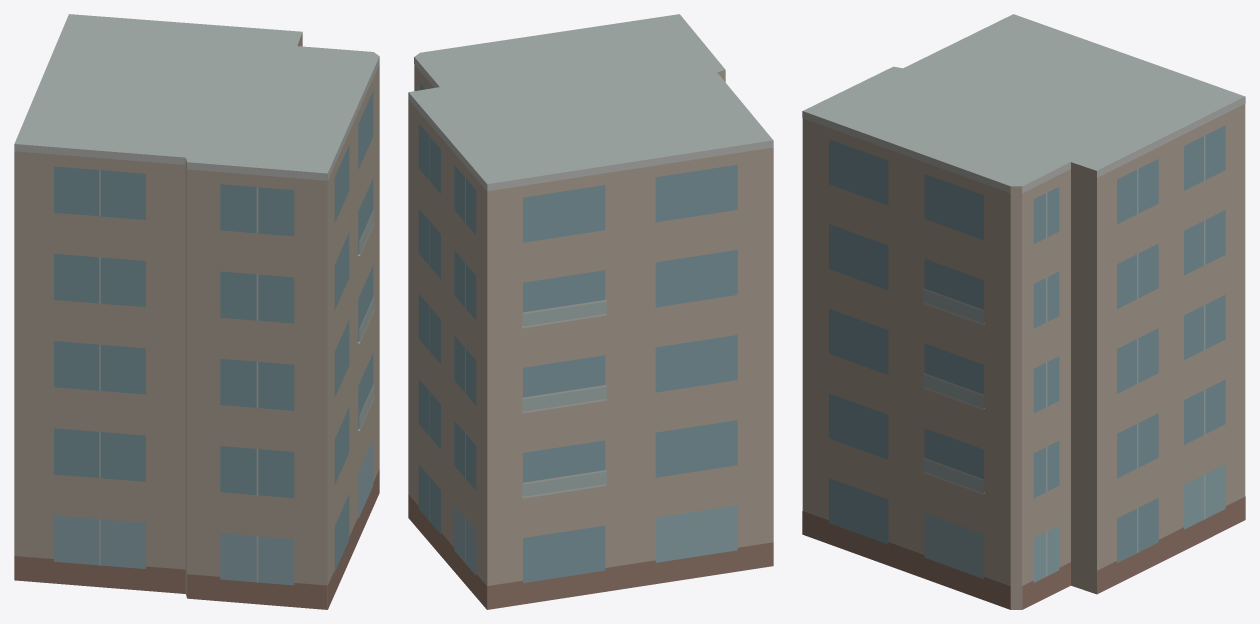
Rendered from survey-upis-32712329.glb.
3 renders of one model, left to right at view 1: azimuth 30°, elevation 25°; view 2: azimuth 150°, elevation 25°; view 3: azimuth 270°, elevation 25°, orthographic. The views are drawn at different scales.
Visible parts, largest first — view 1: survey-upis-32712329.tmp; view 2: survey-upis-32712329.tmp; view 3: survey-upis-32712329.tmp.
Boxes of the visible parts, x1=… form: survey-upis-32712329.tmp: x1=14, y1=14, x2=379, y2=609; survey-upis-32712329.tmp: x1=408, y1=14, x2=773, y2=609; survey-upis-32712329.tmp: x1=802, y1=14, x2=1245, y2=609.
Size of the model in its own units: 12.7 by 14.55 by 13.79.
